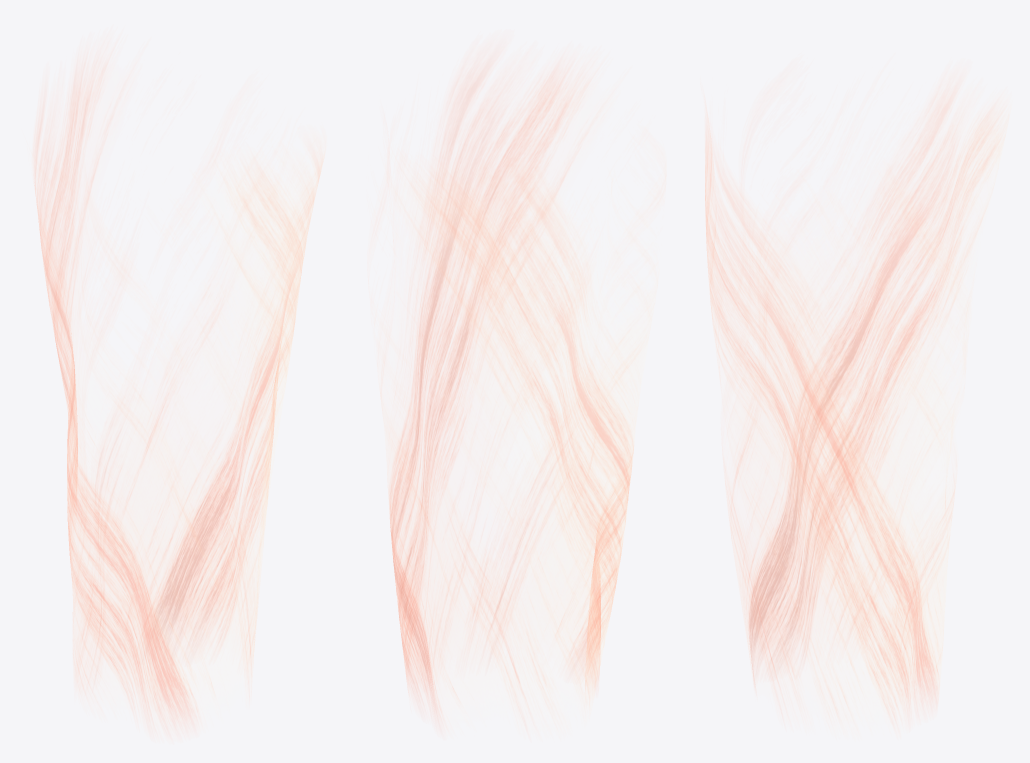
File: devil_mid_2.glb
3 views of the same model, side by side, from view 1: azimuth 30°, elevation 25°; view 2: azimuth 150°, elevation 25°; view 3: azimuth 270°, elevation 25° (orthographic).
Parts seen in each view (by area): view 1: devil_mid_2; view 2: devil_mid_2; view 3: devil_mid_2.
Part boxes in pixels (x1=…): devil_mid_2: x1=33, y1=60, x2=324, y2=728; devil_mid_2: x1=380, y1=59, x2=665, y2=721; devil_mid_2: x1=705, y1=86, x2=1008, y2=723.
Bounding box in the file's own units: 9.68 × 22.4 × 10.3.
1 material, 1 textured.
